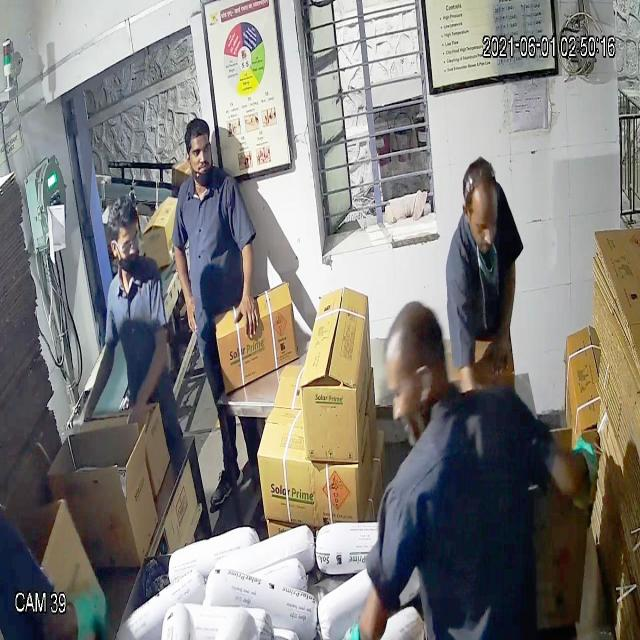glasses: (106, 231, 148, 261)
no-glass: (183, 138, 217, 168)
